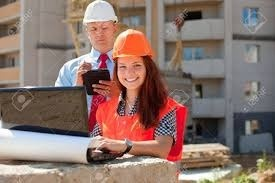helmet: (110, 29, 156, 59), (82, 1, 121, 24)
person with full safety: (108, 30, 178, 151)
person with partial safety: (58, 1, 117, 81)
safety vest: (98, 90, 180, 156)
